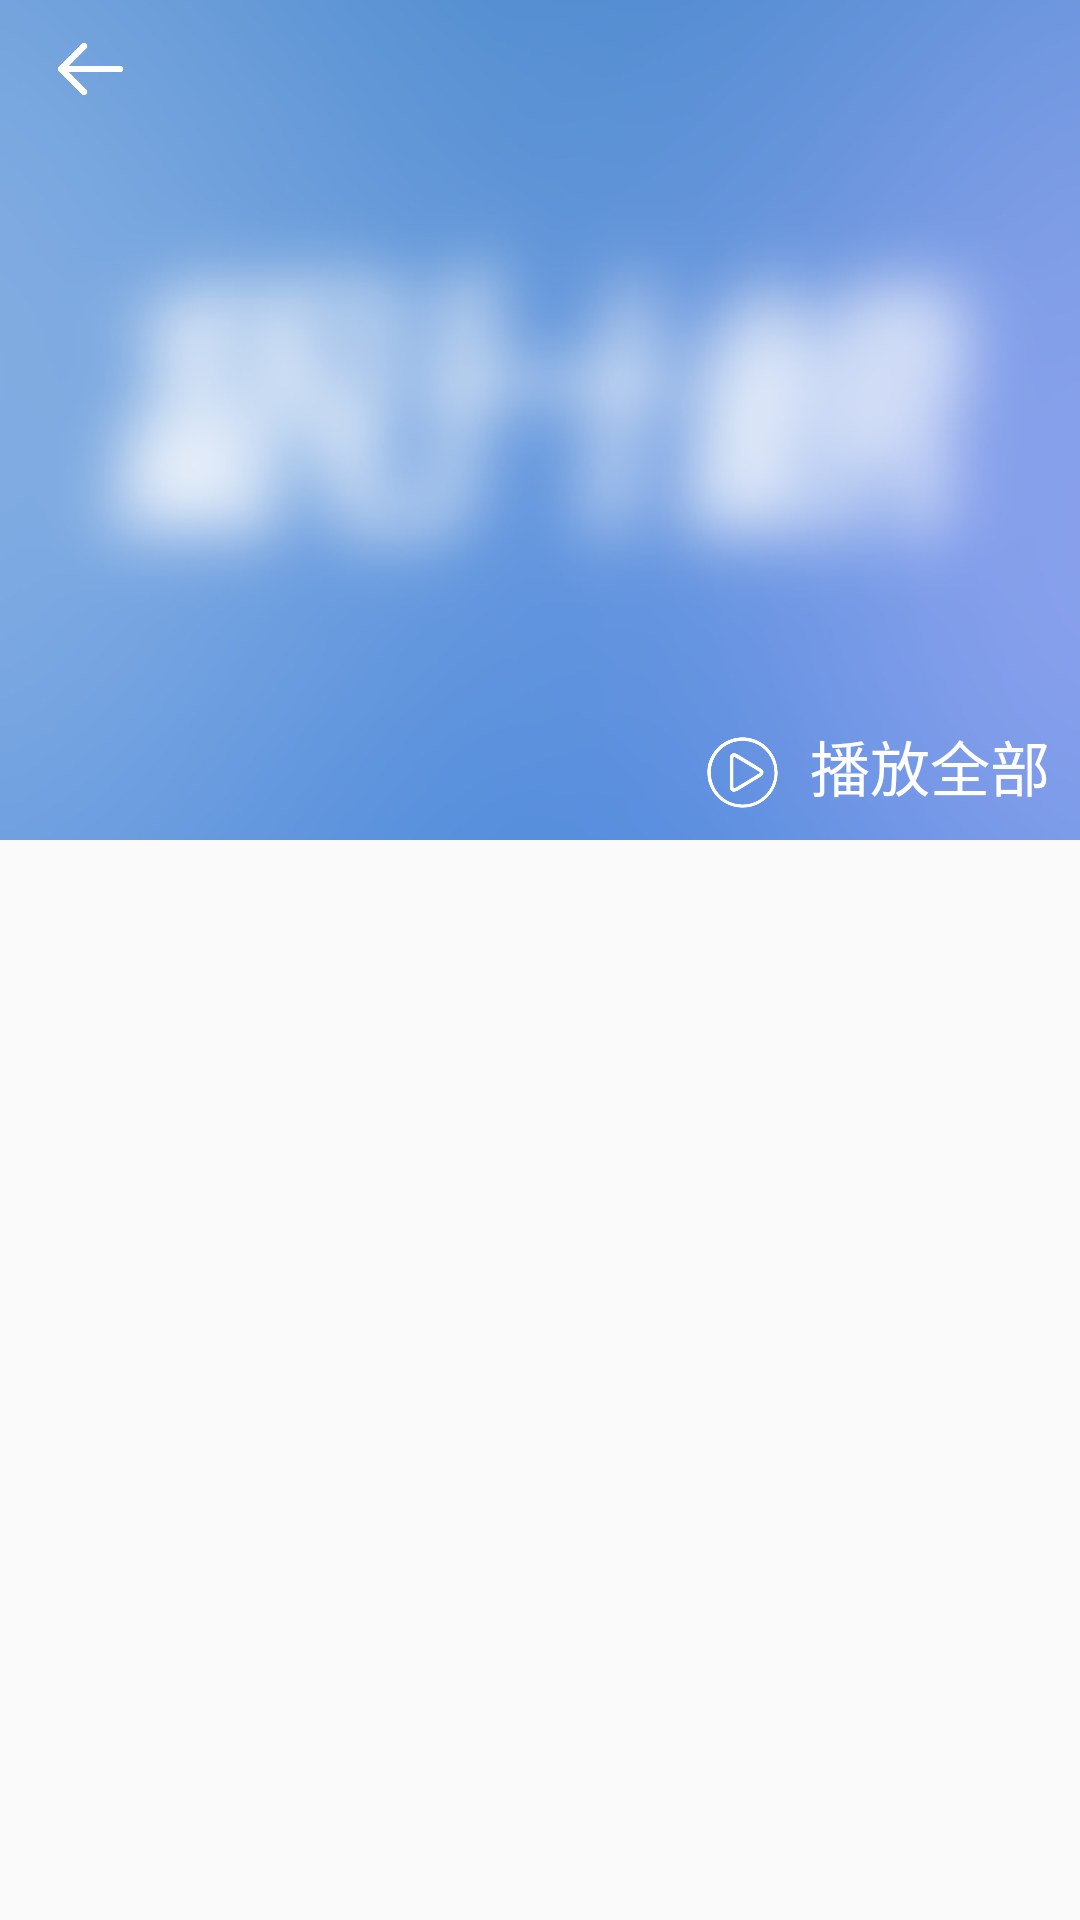

Locate icon controls on the screen. Image size 1080px×1920px, boxes as (x1, y1, x2, y2).
play: (707, 737, 778, 808)
